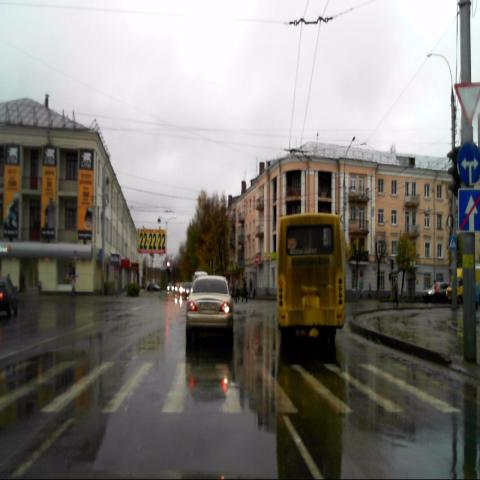4_1_6: (456, 141, 480, 186)
